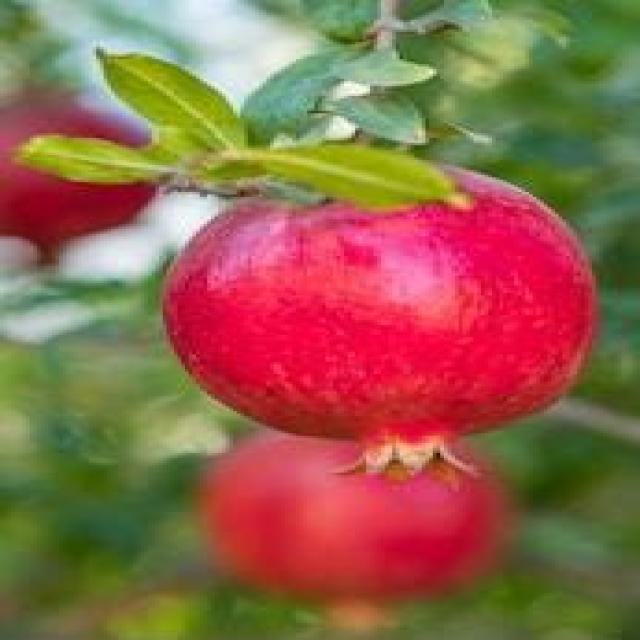Pomegranate: (156, 159, 604, 492)
